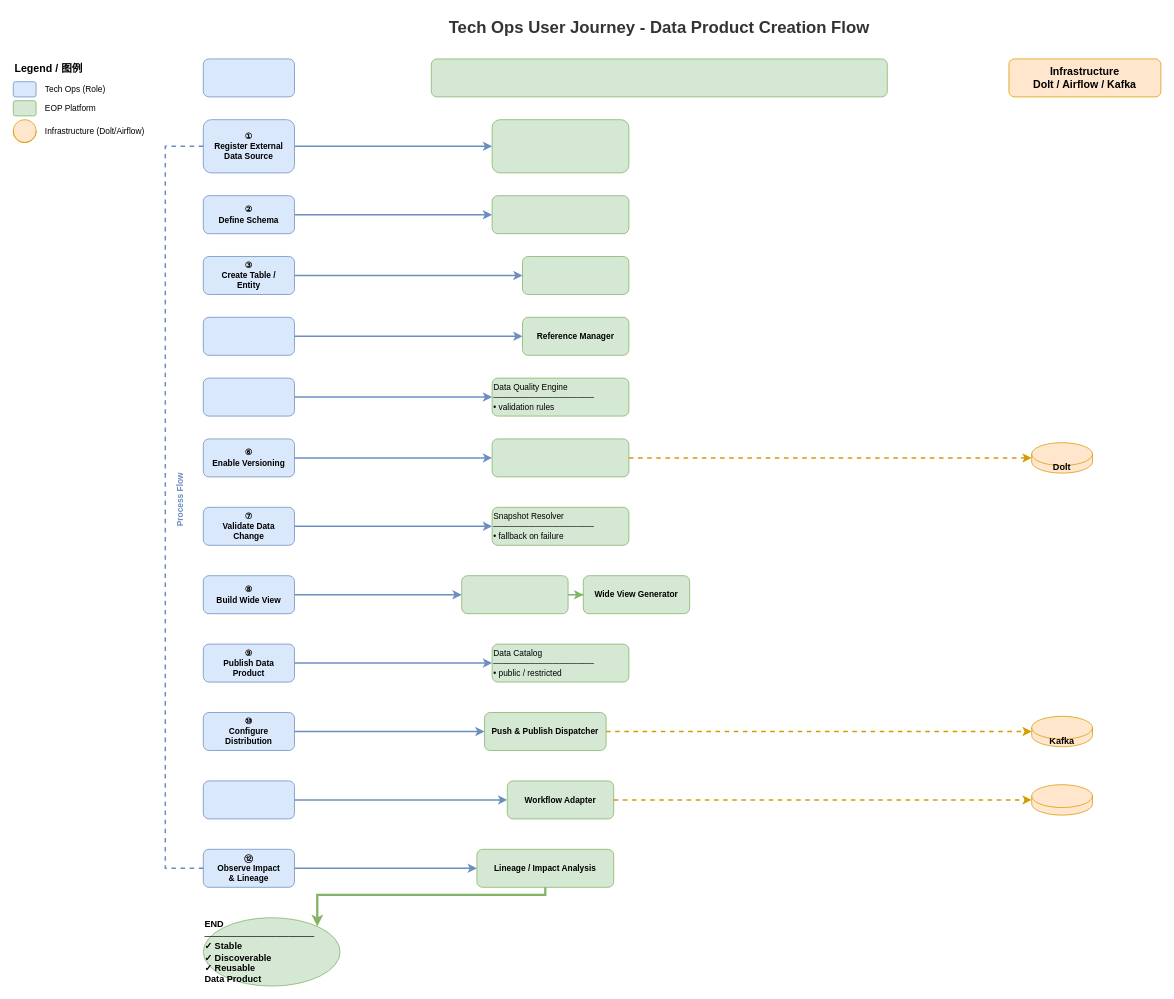
This 1174x999 diagram has some shape labels left out. The centre of each missing label's shape, as x and y in pixels:
Airflow: point (1061, 799)
Data Catalog ───────────────── • register source • owner / SLA: point (560, 146)
EOP Platform Standard Data Product: point (659, 77)
Schema Registry ───────────────── • fields / types: point (560, 214)
Table Manager: point (575, 275)
Tech Ops Role: point (248, 77)
Transformation Engine: point (514, 594)
Version & Snapshot Manager ───────────────── • schema / row snapshot: point (560, 457)
④ Define Reference: point (248, 336)
⑤ Configure Field Rules: point (248, 396)
⑪ Configure Workflow Trigger: point (248, 799)
